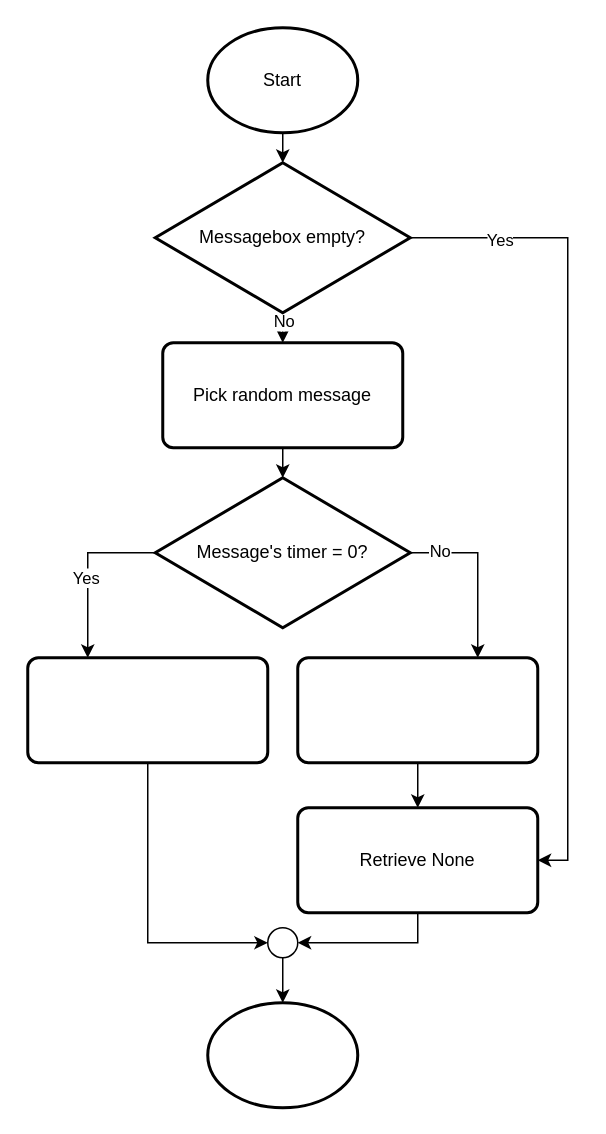
This 606x1134 diagram has some shape labels left out. Here are the shapes that lost their labels. From the top down, the centre of each, then its label:
the point at 147,710: Retrieve message
the point at 417,710: Decrement message timer
the point at 282,1054: End
